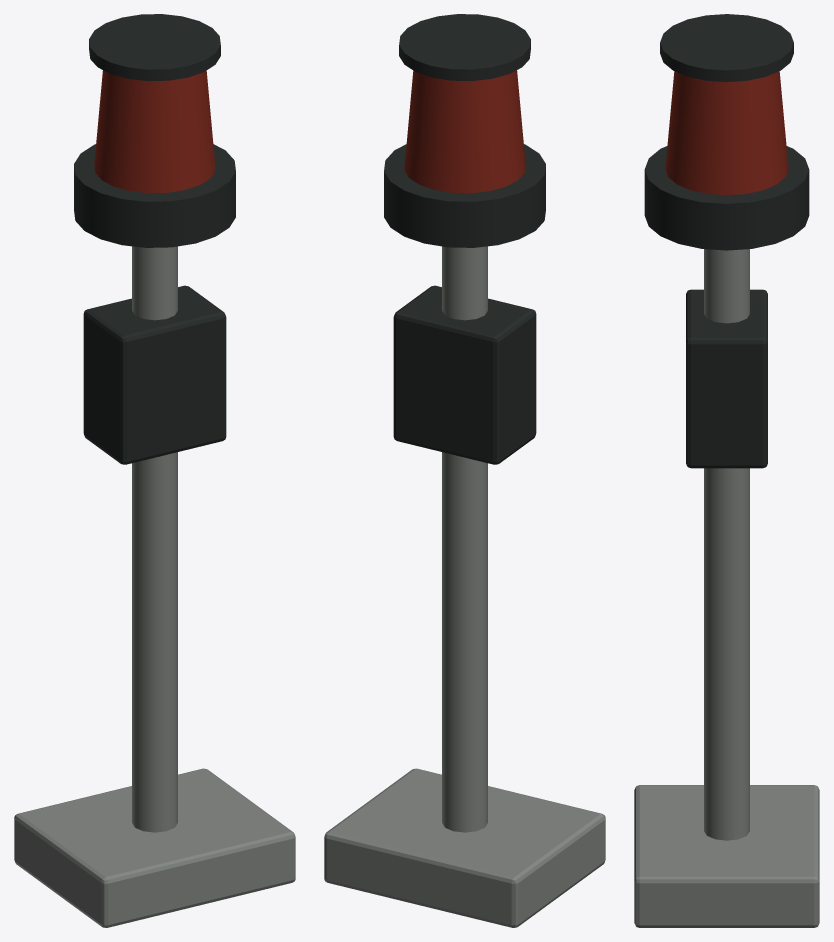
File: noir-alarm-zone.glb
3 views of the same model, side by side, from view 1: azimuth 30°, elevation 25°; view 2: azimuth 150°, elevation 25°; view 3: azimuth 270°, elevation 25° (orthographic).
Visible parts, largest first — view 1: fence-galvanized-steel.005, lamp-enamel.006, fuel-red-enamel.001; view 2: fence-galvanized-steel.005, lamp-enamel.006, fuel-red-enamel.001; view 3: fence-galvanized-steel.005, lamp-enamel.006, fuel-red-enamel.001.
Boxes of the visible parts, box(x1,y1,x2,y2) form: fence-galvanized-steel.005: box(14, 246, 295, 927); lamp-enamel.006: box(74, 14, 235, 464); fuel-red-enamel.001: box(94, 70, 215, 193); fence-galvanized-steel.005: box(324, 246, 605, 927); lamp-enamel.006: box(384, 14, 545, 464); fuel-red-enamel.001: box(404, 70, 525, 193); fence-galvanized-steel.005: box(634, 249, 819, 927); lamp-enamel.006: box(644, 14, 809, 468); fuel-red-enamel.001: box(665, 71, 788, 195).
Bounding box in the file's own units: 0.44 × 1.8 × 0.36.
